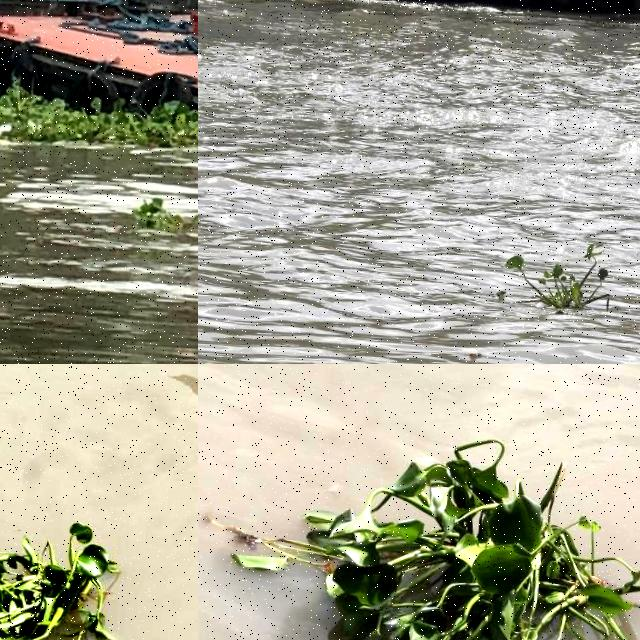water-hyacinth: (215, 434, 640, 640), (1, 29, 199, 157), (1, 512, 135, 640), (496, 237, 622, 326), (130, 196, 195, 238)
